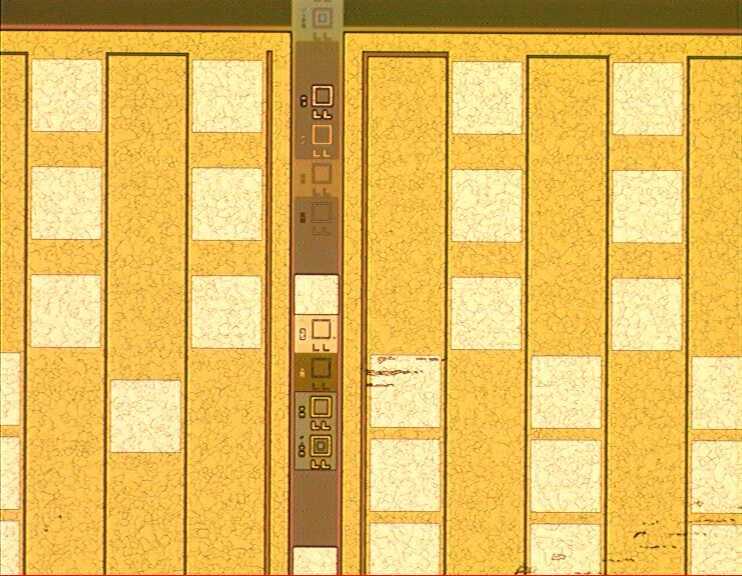SCRATCH: (346, 354, 742, 576)
